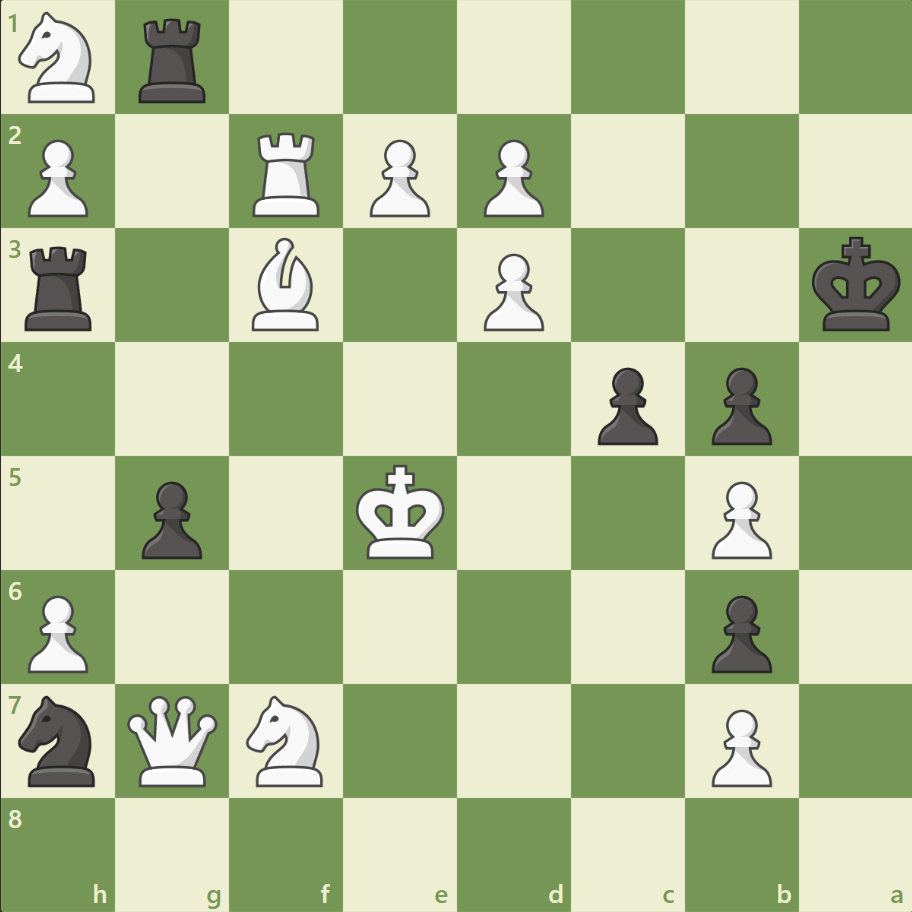B: (244, 233, 328, 336)
K: (351, 458, 451, 566)
N: (238, 688, 335, 791), (11, 7, 108, 110)
P: (701, 700, 776, 791), (20, 586, 95, 677), (701, 473, 776, 564), (474, 246, 549, 337), (474, 132, 549, 223), (20, 132, 95, 223), (361, 132, 435, 223)
Q: (124, 690, 223, 789)
R: (246, 125, 329, 222)
k: (806, 231, 906, 339)
n: (11, 688, 108, 791)
p: (701, 586, 776, 677), (133, 473, 208, 564), (701, 359, 776, 450), (588, 359, 662, 450)
r: (19, 239, 102, 336), (133, 12, 215, 109)
